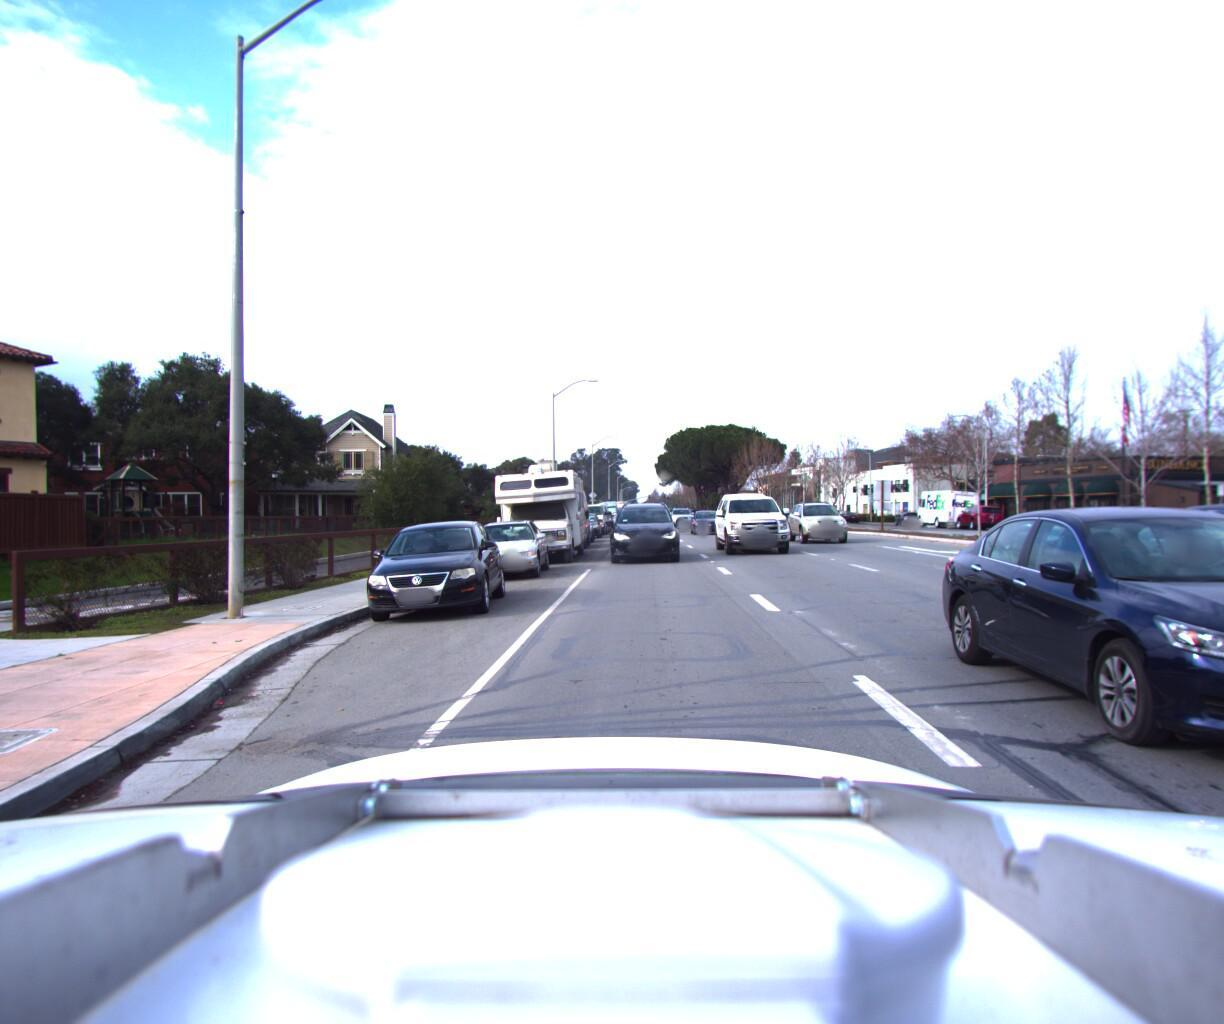car: (962, 490, 1224, 878), (348, 514, 511, 626), (1159, 485, 1224, 692), (713, 477, 797, 553), (457, 515, 553, 582), (609, 494, 678, 559), (788, 493, 858, 541), (951, 500, 1007, 527), (1003, 507, 1064, 531), (570, 498, 606, 533), (688, 501, 726, 533), (595, 495, 618, 525), (667, 499, 692, 521), (890, 508, 918, 523)
other_vehicle: (483, 451, 585, 566)
truck: (910, 484, 979, 526)
